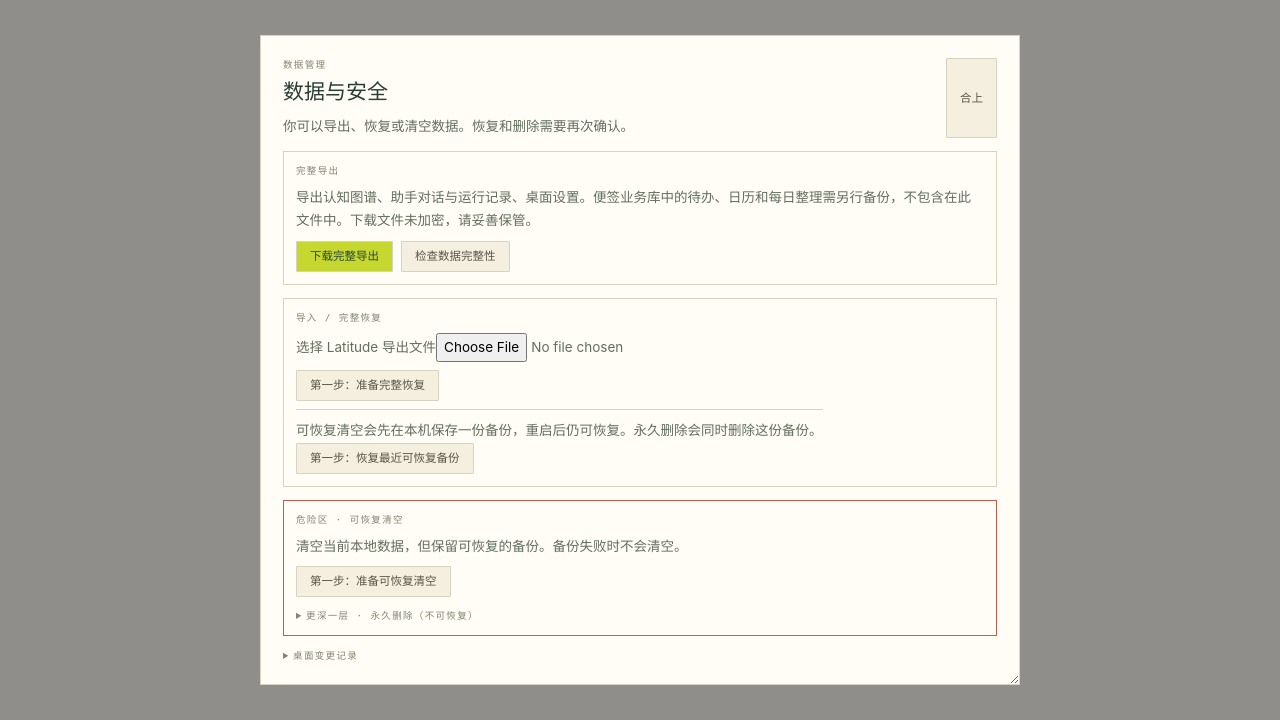
Test case: BrowserDataSafetyDialog truthfulness › marks plaintext exports and disables non-reversible or non-applied ChangeSets
Expected: the text "下载文件未加密" is shown, [296,189,971,228]
Click the heading "桌面变更记录". click: (326, 655)
box: [293,650,358,661]
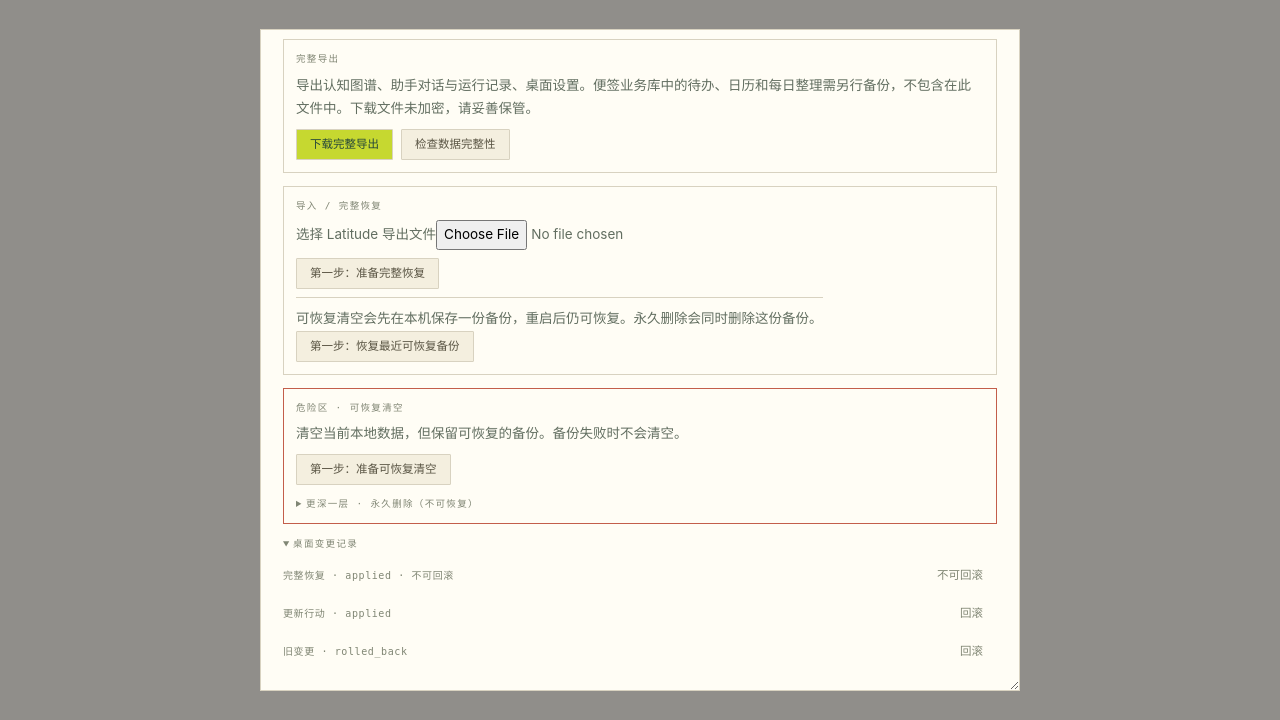
Expected: the text "完整恢复 · applied · 不可回滚" is shown, [283,570,454,581]
Expected: the button "不可回滚" is disabled, [923,560,997,591]
Expected: the button "回滚" in the row of "更新行动" is enabled, [946,598,997,629]
